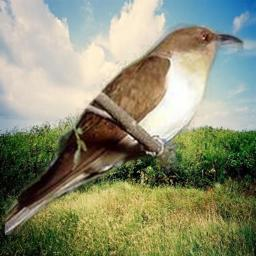Cuckoo: (5, 22, 244, 235)
